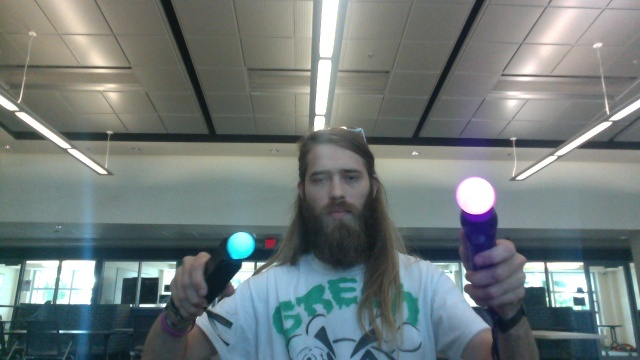wand: (456, 177, 496, 216), (229, 233, 255, 260)
